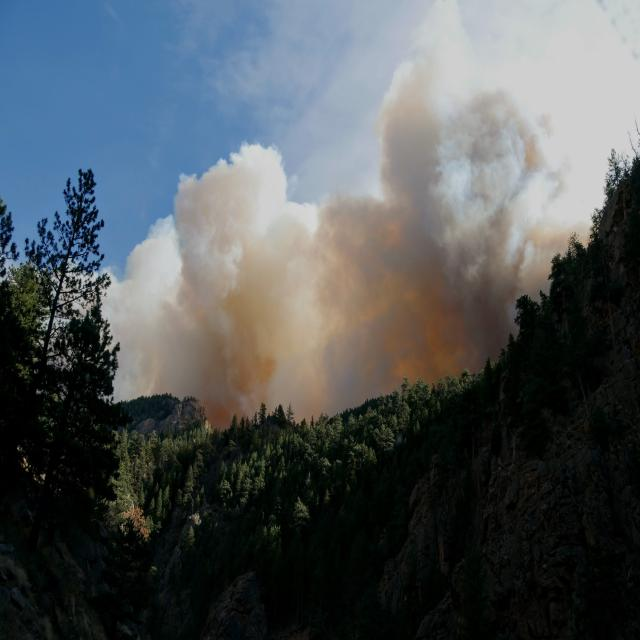smoke: (122, 130, 525, 408)
